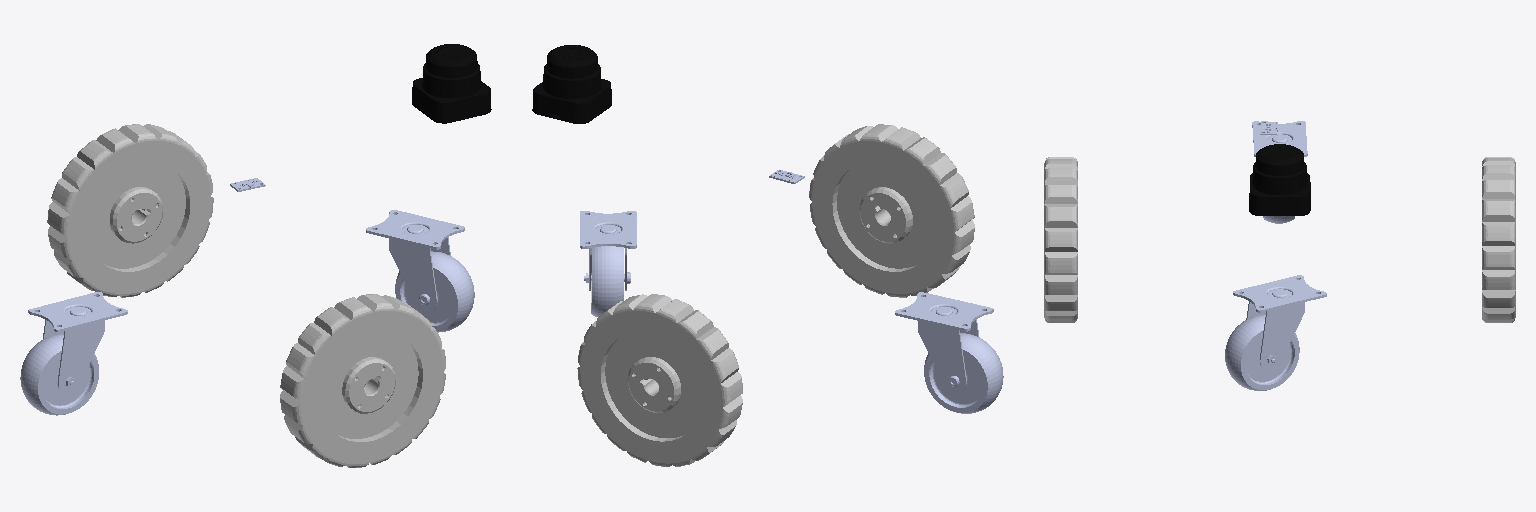
URDF robot description (urdf_export_assem#3.SLDASM):
<?xml version="1.0" encoding="utf-8"?>
<!-- This URDF was automatically created by SolidWorks to URDF Exporter! Originally created by [author] ([email redacted]) 
     Commit Version: 1.6.0-4-g7f85cfe  Build Version: 1.6.7995.38578
     For more information, please see http://wiki.ros.org/sw_urdf_exporter -->
<robot
  name="urdf_export_assem#3.SLDASM">
  <link
    name="base_link">
    <inertial>
      <origin
        xyz="0.00134691271357942 -2.52657545412177E-05 0.472082902102997"
        rpy="0 0 0" />
      <mass
        value="13.3704893846402" />
      <inertia
        ixx="0.389862215162195"
        ixy="3.73442510141833E-05"
        ixz="0.00489552498258593"
        iyy="0.361904289007973"
        iyz="-0.000207680006355546"
        izz="0.413509038616086" />
    </inertial>
    <visual>
      <origin
        xyz="0 0 0"
        rpy="0 0 0" />
      <geometry>
        <mesh
          filename="package://urdf_export_assem#3.SLDASM/meshes/base_link.STL" />
      </geometry>
      <material
        name="">
        <color
          rgba="0.792156862745098 0.819607843137255 0.933333333333333 1" />
      </material>
    </visual>
    <collision>
      <origin
        xyz="0 0 0"
        rpy="0 0 0" />
      <geometry>
        <mesh
          filename="package://urdf_export_assem#3.SLDASM/meshes/base_link.STL" />
      </geometry>
    </collision>
  </link>
  <link
    name="Right_wheel_link">
    <inertial>
      <origin
        xyz="-8.93952047617032E-06 0.0150000793737486 -1.16037505515365E-05"
        rpy="0 0 0" />
      <mass
        value="0.415938182180326" />
      <inertia
        ixx="0.000652914571865517"
        ixy="1.4107340831946E-10"
        ixz="2.68048423358216E-08"
        iyy="0.00125445432257594"
        iyz="-3.56322307486116E-12"
        izz="0.000652929076357562" />
    </inertial>
    <visual>
      <origin
        xyz="0 0 0"
        rpy="0 0 0" />
      <geometry>
        <mesh
          filename="package://urdf_export_assem#3.SLDASM/meshes/Right_wheel_link.STL" />
      </geometry>
      <material
        name="">
        <color
          rgba="0.796078431372549 0.796078431372549 0.796078431372549 1" />
      </material>
    </visual>
    <collision>
      <origin
        xyz="0 0 0"
        rpy="0 0 0" />
      <geometry>
        <mesh
          filename="package://urdf_export_assem#3.SLDASM/meshes/Right_wheel_link.STL" />
      </geometry>
    </collision>
  </link>
  <joint
    name="Right_wheel_Axis"
    type="continuous">
    <origin
      xyz="0 -0.212229686537745 0.0183338534091537"
      rpy="0 0 0" />
    <parent
      link="base_link" />
    <child
      link="Right_wheel_link" />
    <axis
      xyz="0 -1 0" />
    <limit
      effort="0"
      velocity="100" />
    <dynamics
      damping="0.1"
      friction="0.1" />
  </joint>
  <link
    name="Left_wheel_link">
    <inertial>
      <origin
        xyz="-1.36983615786788E-05 -0.0149999206509359 -5.18816478300987E-06"
        rpy="0 0 0" />
      <mass
        value="0.415938181435814" />
      <inertia
        ixx="0.000652942508895541"
        ixy="1.18132939340405E-10"
        ixz="1.85257141794357E-08"
        iyy="0.00125445432188265"
        iyz="-7.68116274070127E-11"
        izz="0.000652901138625573" />
    </inertial>
    <visual>
      <origin
        xyz="0 0 0"
        rpy="0 0 0" />
      <geometry>
        <mesh
          filename="package://urdf_export_assem#3.SLDASM/meshes/Left_wheel_link.STL" />
      </geometry>
      <material
        name="">
        <color
          rgba="0.796078431372549 0.796078431372549 0.796078431372549 1" />
      </material>
    </visual>
    <collision>
      <origin
        xyz="0 0 0"
        rpy="0 0 0" />
      <geometry>
        <mesh
          filename="package://urdf_export_assem#3.SLDASM/meshes/Left_wheel_link.STL" />
      </geometry>
    </collision>
  </link>
  <joint
    name="Left_wheel_Axis"
    type="continuous">
    <origin
      xyz="0 0.212229686537745 0.0183338534091531"
      rpy="0 0 0" />
    <parent
      link="base_link" />
    <child
      link="Left_wheel_link" />
    <axis
      xyz="0 1 0" />
    <limit
      effort="0"
      velocity="100" />
    <dynamics
      damping="0.1"
      friction="0.1" />
  </joint>
  <link
    name="Back_MDW_frame_link">
    <inertial>
      <origin
        xyz="-0.00475029171679112 -0.0159989183073881 0.0002537425043838"
        rpy="0 0 0" />
      <mass
        value="0.0181670542093644" />
      <inertia
        ixx="5.72579167306931E-06"
        ixy="-7.35212482813745E-07"
        ixz="3.8141159495066E-08"
        iyy="6.85382817075558E-06"
        iyz="6.10228259069868E-08"
        izz="6.26356011268607E-06" />
    </inertial>
    <visual>
      <origin
        xyz="0 0 0"
        rpy="0 0 0" />
      <geometry>
        <mesh
          filename="package://urdf_export_assem#3.SLDASM/meshes/Back_MDW_frame_link.STL" />
      </geometry>
      <material
        name="">
        <color
          rgba="0.792156862745098 0.819607843137255 0.933333333333333 1" />
      </material>
    </visual>
    <collision>
      <origin
        xyz="0 0 0"
        rpy="0 0 0" />
      <geometry>
        <mesh
          filename="package://urdf_export_assem#3.SLDASM/meshes/Back_MDW_frame_link.STL" />
      </geometry>
    </collision>
  </link>
  <joint
    name="Back_MDW_frame_Axis"
    type="continuous">
    <origin
      xyz="-0.165000000000002 0 0.0429999999999998"
      rpy="1.5707963267949 0 -0.0478770767270203" />
    <parent
      link="base_link" />
    <child
      link="Back_MDW_frame_link" />
    <axis
      xyz="0 1 0" />
    <limit
      effort="0"
      velocity="100" />
    <dynamics
      damping="0.1"
      friction="0.1" />
  </joint>
  <link
    name="Back_MDW_wheel_link">
    <inertial>
      <origin
        xyz="2.19269047363468E-15 0 -4.9960036108132E-16"
        rpy="0 0 0" />
      <mass
        value="0.0803777244026511" />
      <inertia
        ixx="2.90627993874311E-05"
        ixy="9.93120762310388E-22"
        ixz="1.82015378594515E-06"
        iyy="2.89117363434887E-05"
        iyz="7.47994503296913E-22"
        izz="5.08427111075994E-05" />
    </inertial>
    <visual>
      <origin
        xyz="0 0 0"
        rpy="0 0 0" />
      <geometry>
        <mesh
          filename="package://urdf_export_assem#3.SLDASM/meshes/Back_MDW_wheel_link.STL" />
      </geometry>
      <material
        name="">
        <color
          rgba="0.792156862745098 0.819607843137255 0.933333333333333 1" />
      </material>
    </visual>
    <collision>
      <origin
        xyz="0 0 0"
        rpy="0 0 0" />
      <geometry>
        <mesh
          filename="package://urdf_export_assem#3.SLDASM/meshes/Back_MDW_wheel_link.STL" />
      </geometry>
    </collision>
  </link>
  <joint
    name="Back_MDW_wheel_Axis"
    type="continuous">
    <origin
      xyz="-0.0186165206066295 -0.0552708014281127 0.0019464470498146"
      rpy="0 0 0" />
    <parent
      link="Back_MDW_frame_link" />
    <child
      link="Back_MDW_wheel_link" />
    <axis
      xyz="-0.0827102895528008 0 -0.996573634009094" />
    <limit
      effort="0"
      velocity="100" />
    <dynamics
      damping="0.1"
      friction="0.1" />
  </joint>
  <link
    name="Front_MDW_frame_link">
    <inertial>
      <origin
        xyz="0.00248501109838795 -0.0159989183073879 0.00405639944951833"
        rpy="0 0 0" />
      <mass
        value="0.0181670542093644" />
      <inertia
        ixx="6.10969442173415E-06"
        ixy="4.0373691414436E-07"
        ixz="-2.46016685875738E-07"
        iyy="6.85382817075558E-06"
        iyz="6.1746067431377E-07"
        izz="5.87965736402121E-06" />
    </inertial>
    <visual>
      <origin
        xyz="0 0 0"
        rpy="0 0 0" />
      <geometry>
        <mesh
          filename="package://urdf_export_assem#3.SLDASM/meshes/Front_MDW_frame_link.STL" />
      </geometry>
      <material
        name="">
        <color
          rgba="0.792156862745098 0.819607843137255 0.933333333333333 1" />
      </material>
    </visual>
    <collision>
      <origin
        xyz="0 0 0"
        rpy="0 0 0" />
      <geometry>
        <mesh
          filename="package://urdf_export_assem#3.SLDASM/meshes/Front_MDW_frame_link.STL" />
      </geometry>
    </collision>
  </link>
  <joint
    name="Front_MDW_frame_Axis"
    type="continuous">
    <origin
      xyz="0.165 0 0.0429999999999998"
      rpy="1.5707963267949 0 -0.0478770767270203" />
    <parent
      link="base_link" />
    <child
      link="Front_MDW_frame_link" />
    <axis
      xyz="0 1 0" />
    <limit
      effort="0"
      velocity="100" />
    <dynamics
      damping="0.1"
      friction="0.1" />
  </joint>
  <link
    name="Front_MDW_wheel_link">
    <inertial>
      <origin
        xyz="8.32667268468867E-17 0 -4.16333634234434E-16"
        rpy="0 0 0" />
      <mass
        value="0.0803777244026511" />
      <inertia
        ixx="4.43804269714061E-05"
        ixy="-1.791097142141E-21"
        ixz="-1.01143374248899E-05"
        iyy="2.89117363434887E-05"
        iyz="1.67995338632247E-21"
        izz="3.55250835236243E-05" />
    </inertial>
    <visual>
      <origin
        xyz="0 0 0"
        rpy="0 0 0" />
      <geometry>
        <mesh
          filename="package://urdf_export_assem#3.SLDASM/meshes/Front_MDW_wheel_link.STL" />
      </geometry>
      <material
        name="">
        <color
          rgba="0.792156862745098 0.819607843137255 0.933333333333333 1" />
      </material>
    </visual>
    <collision>
      <origin
        xyz="0 0 0"
        rpy="0 0 0" />
      <geometry>
        <mesh
          filename="package://urdf_export_assem#3.SLDASM/meshes/Front_MDW_wheel_link.STL" />
      </geometry>
    </collision>
  </link>
  <joint
    name="Front_MDW_wheel_Axis"
    type="continuous">
    <origin
      xyz="0.0105759971863268 -0.0552708014281127 0.0154438265701736"
      rpy="0 0 0" />
    <parent
      link="Front_MDW_frame_link" />
    <child
      link="Front_MDW_wheel_link" />
    <axis
      xyz="-0.83696481718083 0 0.547256699183719" />
    <limit
      effort="0"
      velocity="100" />
    <dynamics
      damping="0.1"
      friction="0.1" />
  </joint>
  <link
    name="IMU_link">
    <inertial>
      <origin
        xyz="9.133E-05 -0.0017303 -0.00073244"
        rpy="0 0 0" />
      <mass
        value="0.00064128" />
      <inertia
        ixx="1.1862E-08"
        ixy="1.3728E-14"
        ixz="1.2576E-13"
        iyy="4.4714E-08"
        iyz="7.9871E-13"
        izz="3.3118E-08" />
    </inertial>
    <visual>
      <origin
        xyz="0 0 0"
        rpy="0 0 0" />
      <geometry>
        <mesh
          filename="package://urdf_export_assem#3.SLDASM/meshes/IMU_link.STL" />
      </geometry>
      <material
        name="">
        <color
          rgba="0.79216 0.81961 0.93333 1" />
      </material>
    </visual>
    <collision>
      <origin
        xyz="0 0 0"
        rpy="0 0 0" />
      <geometry>
        <mesh
          filename="package://urdf_export_assem#3.SLDASM/meshes/IMU_link.STL" />
      </geometry>
    </collision>
  </link>
  <joint
    name="IMU_link"
    type="fixed">
    <origin
      xyz="-0.00486608888305493 -0.0104697509145408 0.129"
      rpy="1.5707963267949 0 -0.0478770767270203" />
    <parent
      link="base_link" />
    <child
      link="IMU_link" />
    <axis
      xyz="0 0 0" />
  </joint>
  <link
    name="Lidar_link">
    <inertial>
      <origin
        xyz="-6.7849E-06 -0.0040159 -0.00020001"
        rpy="0 0 0" />
      <mass
        value="0.0094944" />
      <inertia
        ixx="3.8141E-06"
        ixy="-4.9853E-11"
        ixz="7.157E-11"
        iyy="4.9345E-06"
        iyz="-8.0756E-10"
        izz="3.8153E-06" />
    </inertial>
    <visual>
      <origin
        xyz="0 0 0"
        rpy="0 0 0" />
      <geometry>
        <mesh
          filename="package://urdf_export_assem#3.SLDASM/meshes/Lidar_link.STL" />
      </geometry>
      <material
        name="">
        <color
          rgba="0.082353 0.082353 0.082353 1" />
      </material>
    </visual>
    <collision>
      <origin
        xyz="0 0 0"
        rpy="0 0 0" />
      <geometry>
        <mesh
          filename="package://urdf_export_assem#3.SLDASM/meshes/Lidar_link.STL" />
      </geometry>
    </collision>
  </link>
  <joint
    name="Lidar_link"
    type="continuous">
    <origin
      xyz="0.200500000002106 0 0.18466154484571"
      rpy="1.5707963267949 0 -0.0478770767270203" />
    <parent
      link="base_link" />
    <child
      link="Lidar_link" />
    <axis
      xyz="0 1 0" />
  </joint>
</robot>

--- What the picture shows (computed from the rendered views, not written in the file) ---
3 views of the same robot in one strip: view 1: azimuth 30°, elevation 25°; view 2: azimuth 150°, elevation 25°; view 3: azimuth 270°, elevation 25° (orthographic).
Robot: urdf_export_assem#3.SLDASM — 9 links, 8 joints (7 continuous, 1 fixed); root link base_link; default pose: every joint at zero.
Links seen in each view (by area): view 1: Right_wheel_link, Left_wheel_link, Lidar_link, Front_MDW_frame_link, Back_MDW_frame_link, Back_MDW_wheel_link, Front_MDW_wheel_link; view 2: Left_wheel_link, Right_wheel_link, Lidar_link, Back_MDW_frame_link, Back_MDW_wheel_link, Front_MDW_frame_link, Front_MDW_wheel_link; view 3: Left_wheel_link, Right_wheel_link, Lidar_link, Front_MDW_frame_link, Front_MDW_wheel_link, Back_MDW_frame_link.
Link boxes in pixels (x1=…): Right_wheel_link: x1=280, y1=294, x2=445, y2=467; Left_wheel_link: x1=47, y1=124, x2=213, y2=297; Lidar_link: x1=412, y1=44, x2=491, y2=123; Front_MDW_frame_link: x1=366, y1=210, x2=464, y2=310; Back_MDW_frame_link: x1=28, y1=292, x2=127, y2=393; Back_MDW_wheel_link: x1=20, y1=334, x2=98, y2=415; Front_MDW_wheel_link: x1=395, y1=251, x2=474, y2=332; Left_wheel_link: x1=577, y1=294, x2=742, y2=466; Right_wheel_link: x1=809, y1=124, x2=974, y2=297; Lidar_link: x1=532, y1=45, x2=611, y2=123; Back_MDW_frame_link: x1=895, y1=292, x2=993, y2=392; Back_MDW_wheel_link: x1=924, y1=333, x2=1003, y2=413; Front_MDW_frame_link: x1=580, y1=211, x2=636, y2=290; Front_MDW_wheel_link: x1=591, y1=246, x2=623, y2=316; Left_wheel_link: x1=1482, y1=157, x2=1515, y2=322; Right_wheel_link: x1=1044, y1=157, x2=1077, y2=322; Lidar_link: x1=1249, y1=144, x2=1310, y2=215; Front_MDW_frame_link: x1=1233, y1=275, x2=1326, y2=370; Front_MDW_wheel_link: x1=1225, y1=315, x2=1299, y2=390; Back_MDW_frame_link: x1=1252, y1=121, x2=1307, y2=156.
Size in the robot's own frame: 0.4473 by 0.4245 by 0.2562 metres.
Meshes: 9 distinct files referenced, 8 mesh visuals loaded (8 binary STL); not drawn: 1 (reference not matched to a file when rendering).